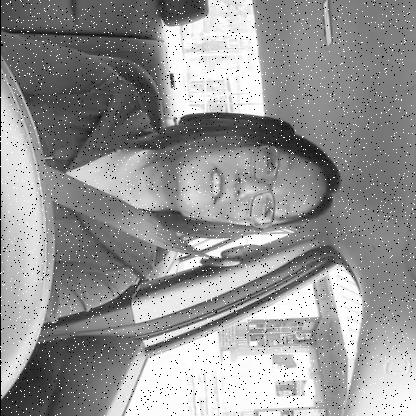seatbelt: (20, 116, 340, 267)
